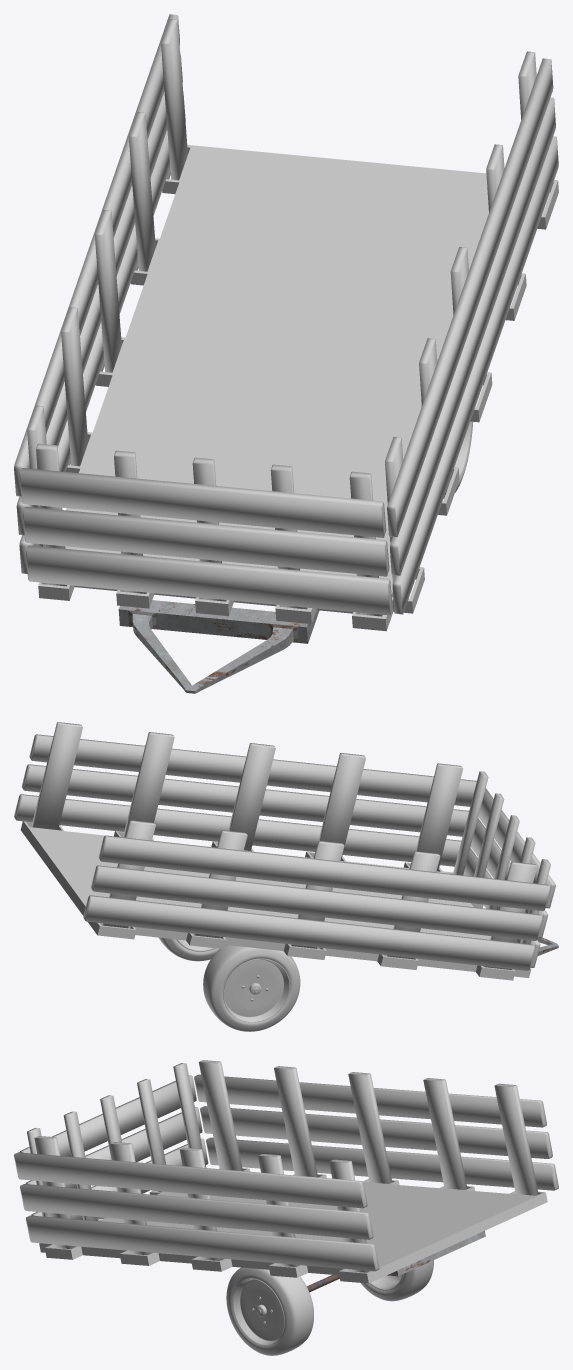
File: Trailer.fbx
3 renders of one model, top to bottom at view 1: azimuth 30°, elevation 25°; view 2: azimuth 150°, elevation 25°; view 3: azimuth 270°, elevation 25°, orthographic. The views are drawn at different scales.
Visible parts, largest first — view 1: Trailer, Trailer_Rails, Trailer_Frame; view 2: Trailer_Rails, Trailer, Wheel_Tire.001, Wheel_Tire; view 3: Trailer_Rails, Trailer, Wheel_Tire, Wheel_Tire.001, Trailer_Frame.
Part boxes in pixels (<box>): Trailer: <box>38,145,558,631</box>; Trailer_Rails: <box>14,14,558,616</box>; Trailer_Frame: <box>118,600,319,693</box>; Trailer_Rails: <box>14,722,555,970</box>; Trailer: <box>20,821,531,980</box>; Wheel_Tire.001: <box>203,945,300,1031</box>; Wheel_Tire: <box>159,937,219,961</box>; Trailer_Rails: <box>14,1060,558,1272</box>; Trailer: <box>39,1168,547,1283</box>; Wheel_Tire: <box>226,1267,313,1355</box>; Wheel_Tire.001: <box>361,1260,433,1301</box>; Trailer_Frame: <box>97,1217,485,1276</box>.
Size of the model in its own units: 946 by 477 by 984.
